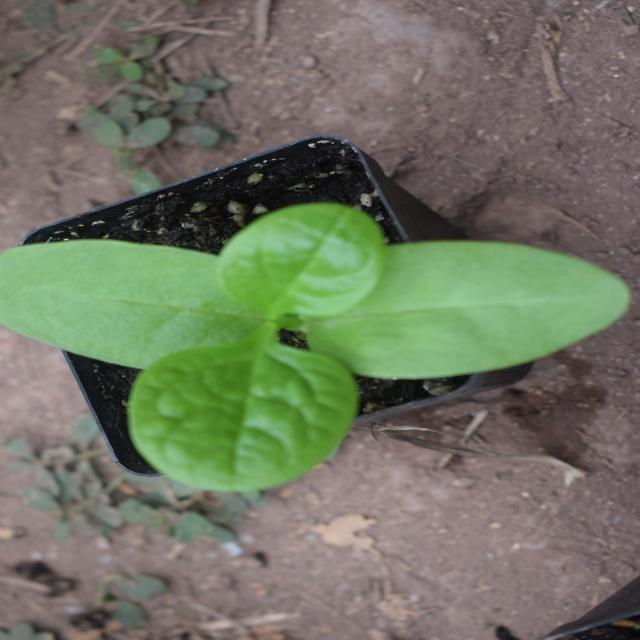Ceylon spinach: (147, 8, 444, 612)
